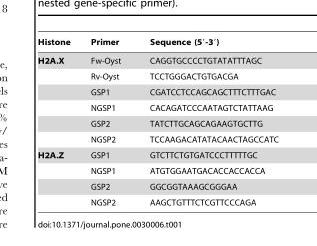table: (37, 37, 277, 206)
table column: (134, 37, 277, 206), (79, 37, 134, 206), (37, 37, 79, 206)
table column header: (37, 37, 277, 51)
table row: (37, 51, 277, 68), (37, 68, 277, 84), (37, 99, 277, 115), (37, 115, 277, 131), (37, 131, 277, 147), (37, 162, 277, 178), (37, 178, 277, 194), (37, 84, 277, 99), (37, 147, 277, 162), (37, 37, 277, 51), (37, 194, 277, 206)
table spanning cell: (37, 51, 79, 147), (37, 147, 79, 206)
